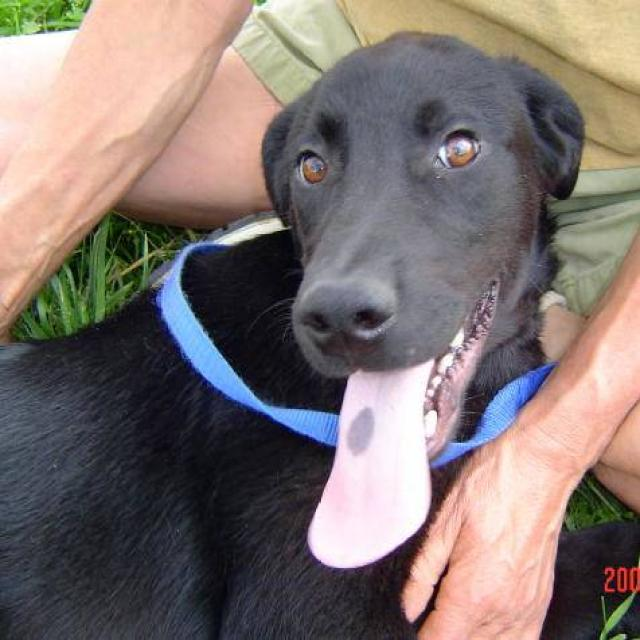dog: (0, 28, 639, 638)
